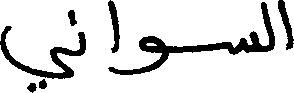X: (0, 5, 72, 92), (121, 31, 167, 79), (226, 26, 257, 59), (108, 0, 119, 78), (279, 0, 293, 54), (261, 0, 274, 56), (79, 27, 84, 60)
